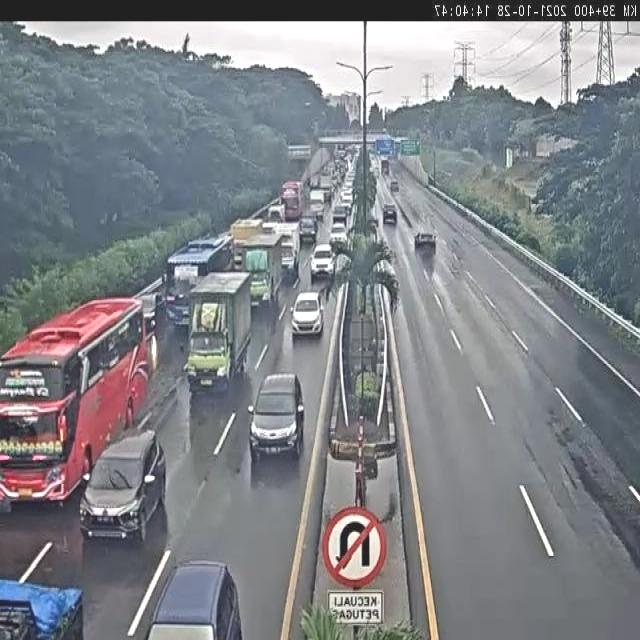Car: (238, 347, 316, 475), (80, 430, 168, 542), (290, 290, 324, 337), (310, 244, 334, 279), (298, 216, 318, 247), (329, 222, 348, 254), (415, 232, 436, 250), (382, 204, 397, 223)
Truck: (184, 272, 255, 394), (141, 560, 244, 638), (166, 233, 234, 324), (243, 247, 277, 307), (164, 269, 196, 330), (49, 593, 84, 640), (229, 220, 264, 264), (138, 292, 162, 334), (264, 220, 302, 244), (280, 236, 297, 279), (378, 279, 393, 323), (343, 201, 359, 241), (361, 450, 378, 482), (174, 264, 198, 286), (308, 189, 326, 218), (372, 259, 392, 285), (334, 251, 352, 278), (282, 180, 302, 204), (321, 272, 335, 305), (287, 144, 312, 161), (318, 175, 334, 201), (332, 204, 349, 228), (270, 294, 280, 333), (317, 136, 348, 148), (0, 485, 12, 514), (368, 153, 381, 178), (268, 203, 285, 222), (399, 205, 413, 228), (300, 181, 311, 210), (344, 145, 358, 166), (449, 253, 462, 275), (334, 158, 348, 178), (341, 188, 354, 209), (285, 203, 300, 221), (331, 168, 343, 190), (261, 221, 281, 234), (163, 290, 174, 313), (460, 146, 481, 158), (529, 200, 544, 216), (234, 246, 244, 269), (376, 355, 385, 380), (368, 218, 378, 238), (392, 292, 400, 314), (506, 147, 514, 169), (224, 234, 234, 251), (218, 231, 230, 245), (367, 141, 378, 156), (336, 146, 346, 162), (320, 282, 328, 302), (458, 206, 470, 219), (322, 164, 333, 178), (310, 175, 321, 189), (343, 155, 352, 172), (380, 154, 389, 170), (393, 137, 404, 150), (161, 272, 168, 292), (310, 120, 318, 137), (413, 233, 422, 247), (388, 148, 398, 160), (304, 176, 312, 190), (427, 174, 435, 187), (439, 169, 452, 177), (390, 180, 399, 191), (452, 252, 460, 264), (384, 173, 391, 186), (520, 150, 529, 159), (452, 237, 459, 246), (382, 128, 388, 134)
